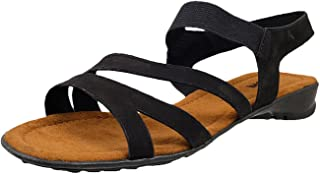shoes: (1, 1, 320, 174)
